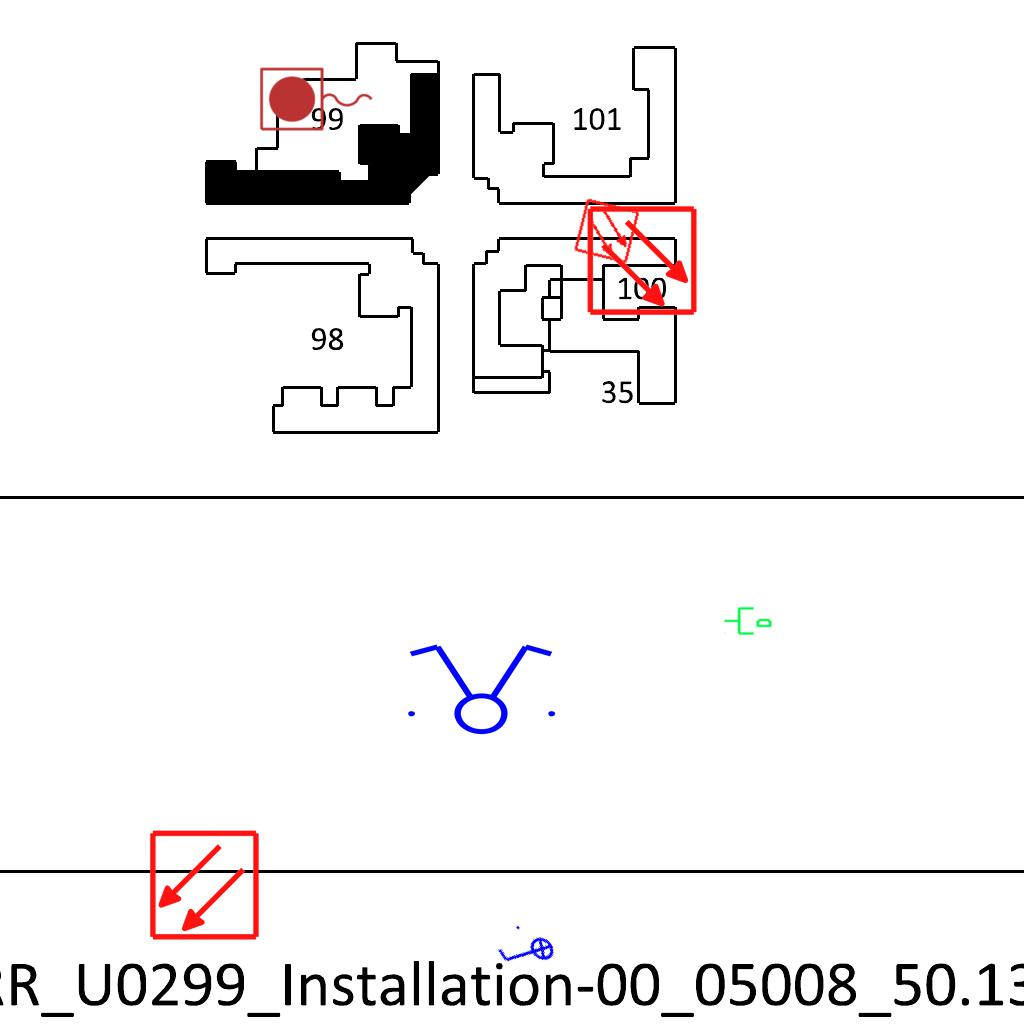Ausschalter_beleuchtet: (490, 916, 564, 990)
Datenanschluss_einfach: (723, 603, 773, 637)
RMO_Rauchmelder_optischer: (148, 829, 261, 942), (586, 204, 699, 317), (573, 197, 641, 265)
Serienschalter: (396, 640, 564, 736)
Zugtaster: (256, 64, 378, 136)
